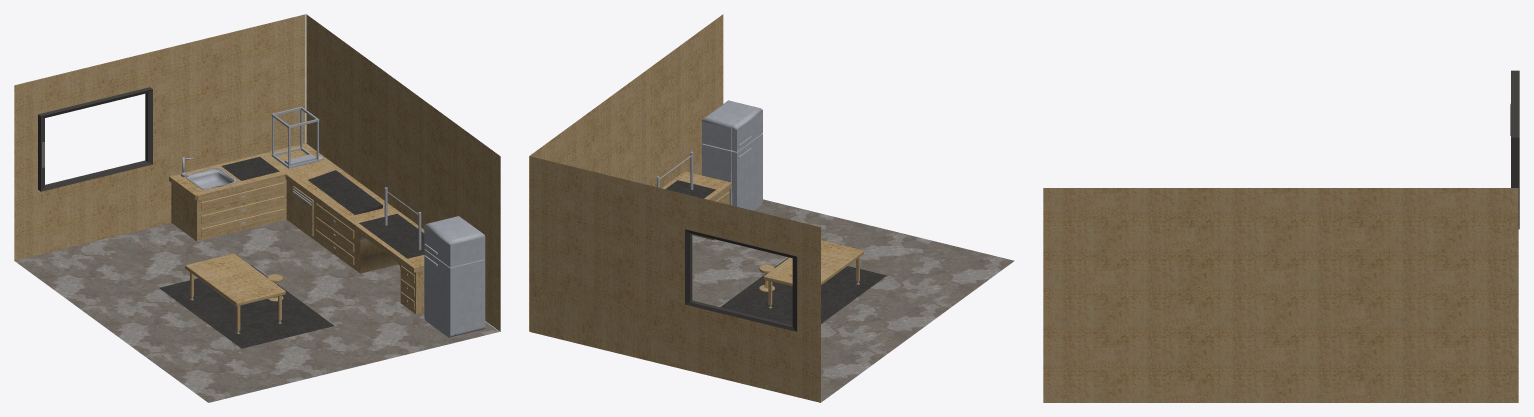
Rendered from workshop.glb.
3 renders of one model, left to right at view 1: azimuth 30°, elevation 25°; view 2: azimuth 150°, elevation 25°; view 3: azimuth 270°, elevation 25°, orthographic. The views are drawn at different scales.
Visible parts, largest first — view 1: Plane.001, Ground, Cube, Cube.019, Cube.020, Grass, Plane.002, Cube.017, Cube.018, Cube.001, Cube.013, Cube.016 (+3 smaller); view 2: Plane.001, Ground, Cube, Cube.019, Cube.020, Plane.002, Grass, Cube.017; view 3: Plane.001, Plane.002.
Boxes of the visible parts, x1,y1,x2,y2 form: Plane.001: [14, 14, 500, 331]; Ground: [15, 219, 499, 402]; Cube: [169, 143, 424, 314]; Cube.019: [424, 216, 485, 337]; Cube.020: [159, 265, 333, 348]; Grass: [185, 253, 285, 306]; Plane.002: [38, 87, 152, 191]; Cube.017: [359, 213, 424, 258]; Cube.018: [308, 170, 382, 214]; Cube.001: [271, 106, 323, 168]; Cube.013: [292, 186, 313, 236]; Cube.016: [221, 156, 279, 180]; Plane.001: [529, 14, 820, 402]; Ground: [692, 199, 1014, 402]; Cube: [530, 171, 731, 364]; Cube.019: [702, 100, 762, 210]; Cube.020: [720, 257, 886, 324]; Plane.002: [685, 229, 797, 331]; Grass: [763, 240, 863, 286]; Cube.017: [665, 180, 715, 198]; Plane.001: [1043, 188, 1518, 402]; Plane.002: [1510, 70, 1519, 229].
Bounding box in the file's own units: 6.32 × 3.66 × 7.3.
8 materials, 6 textured.
